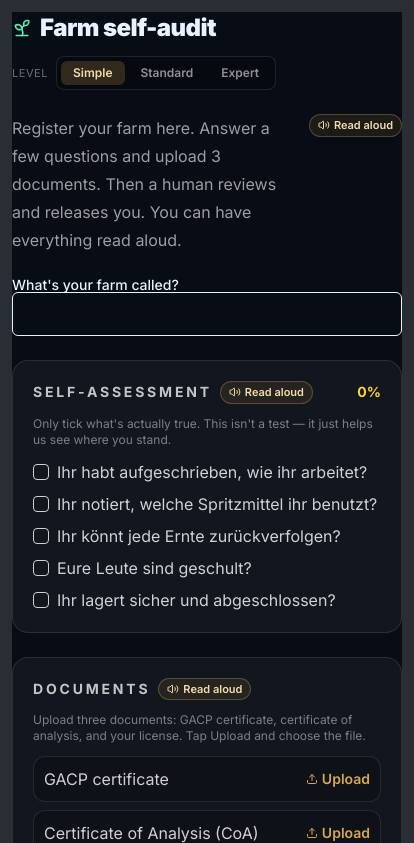
Test: FarmSelfAudit guidance level › reveals optional fields when raising the level to Standard
Click the button "Standard".
click(167, 73)  # box [128, 61, 205, 85]
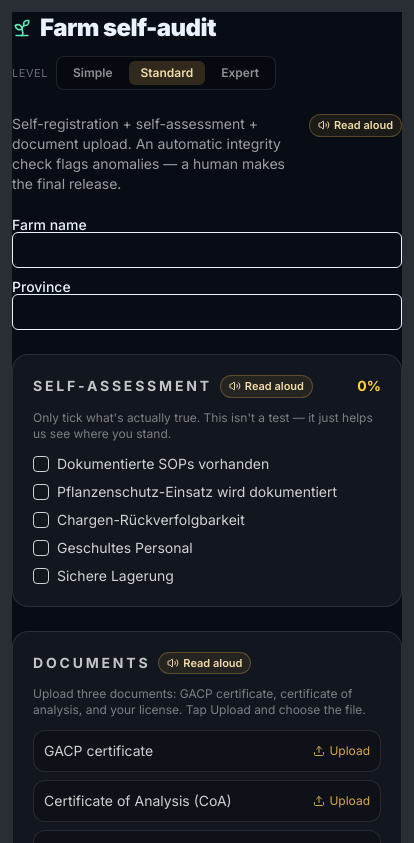
Expected: the field labelled "Farm name" is shown, [12, 232, 402, 268]
Expected: the field labelled "Province" is shown, [12, 294, 402, 330]
